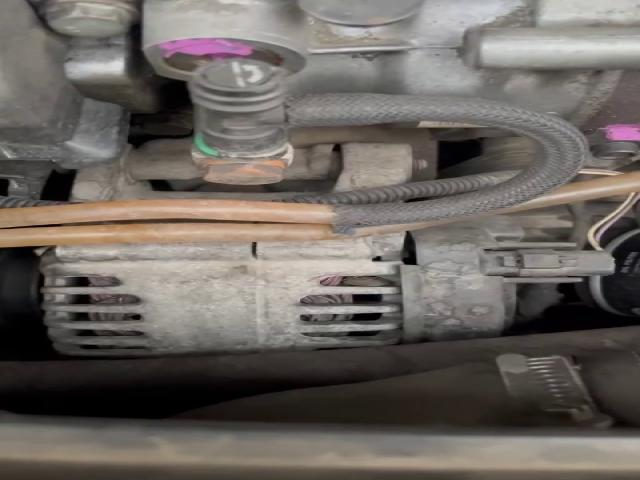alternator: (42, 233, 404, 356)
